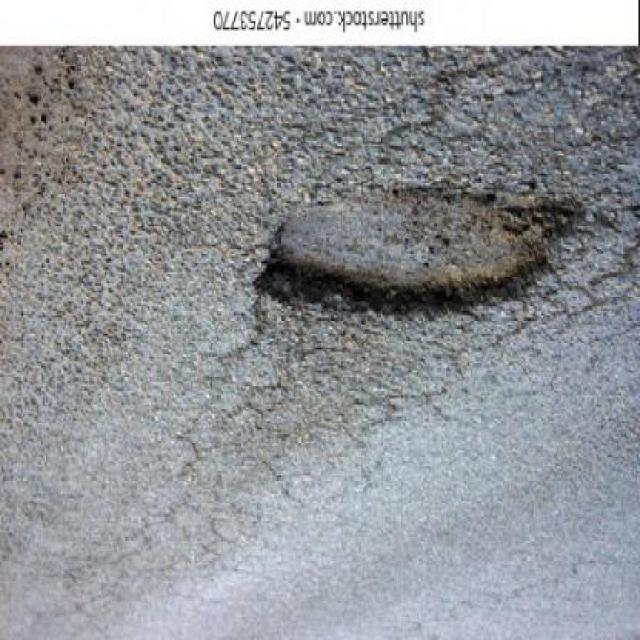Pothole: (248, 168, 593, 329)
